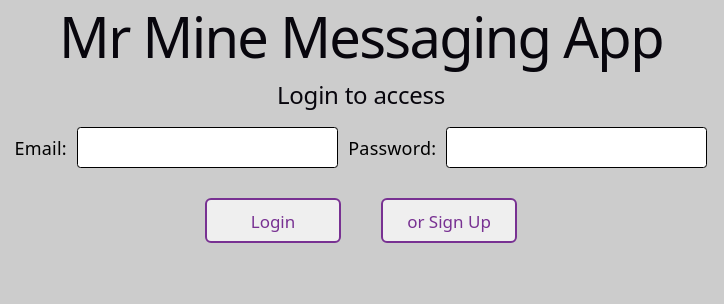
it: Login component › error text is rendered after API request
The image size is (724, 304).
Click the button "Login".
click(273, 220)  # box 205,198 -> 341,243
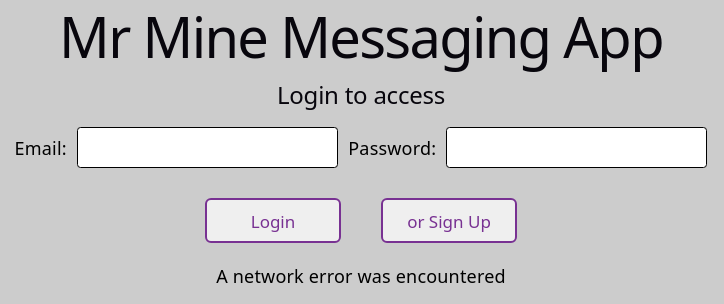
Now the text "A network error was encountered" is shown, box 216,264 -> 506,288
